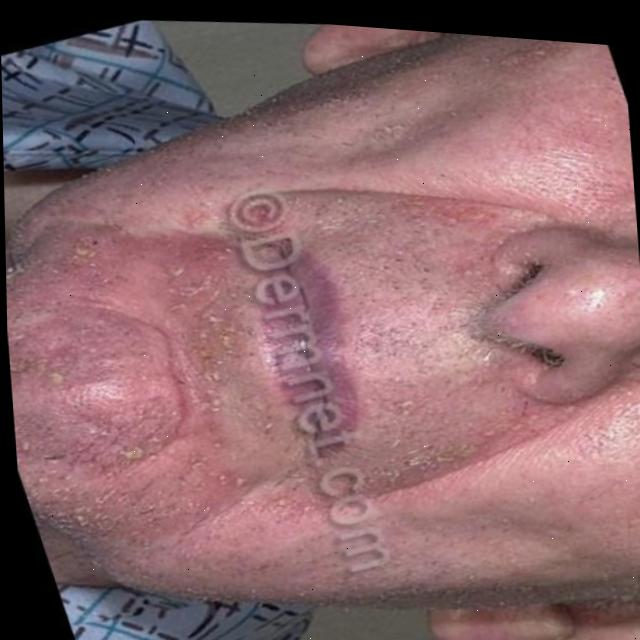Eczema: (16, 269, 197, 533), (228, 233, 365, 449)
